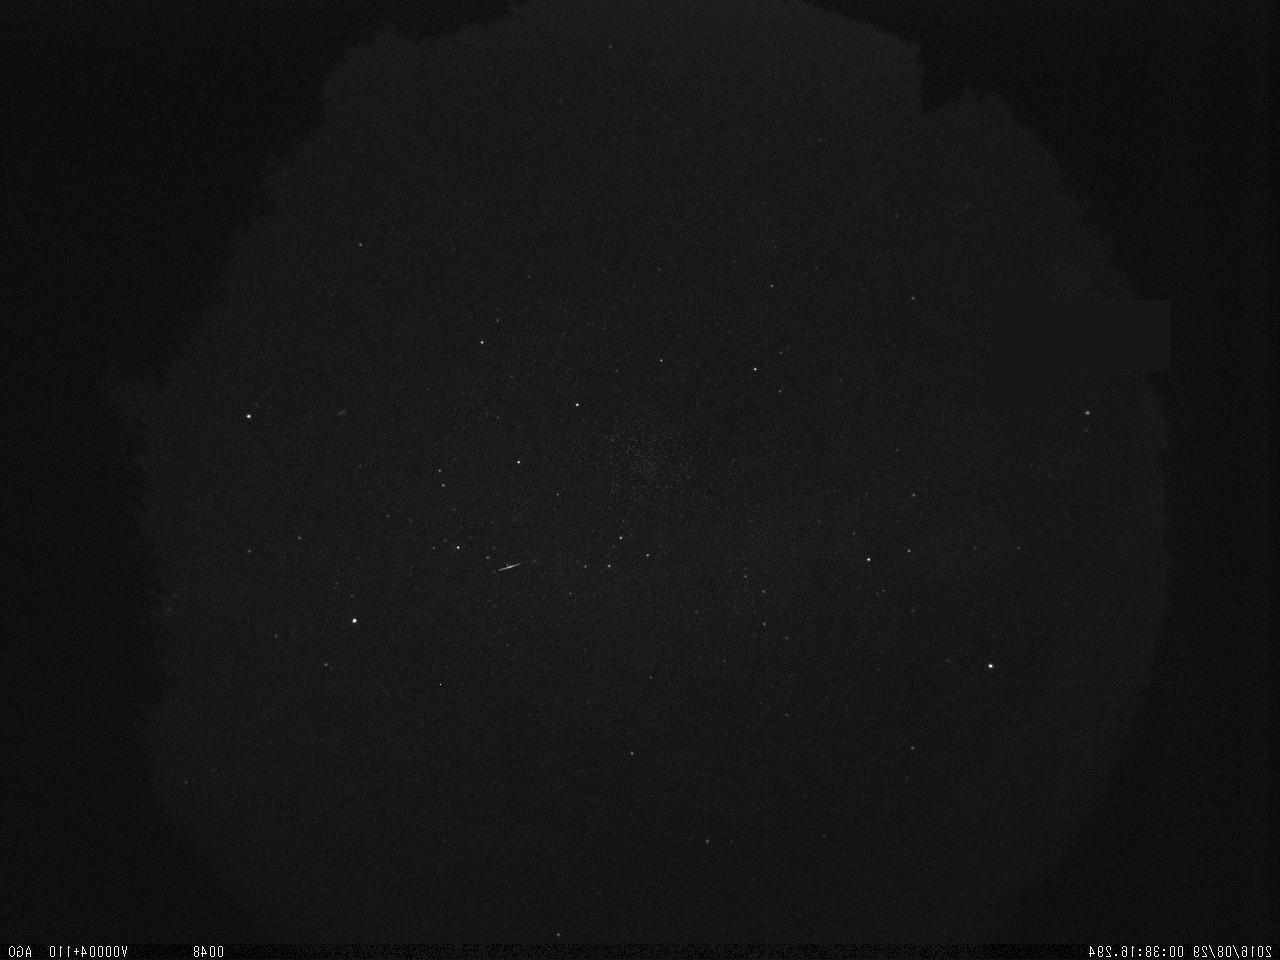meteor: (492, 554, 524, 588)
